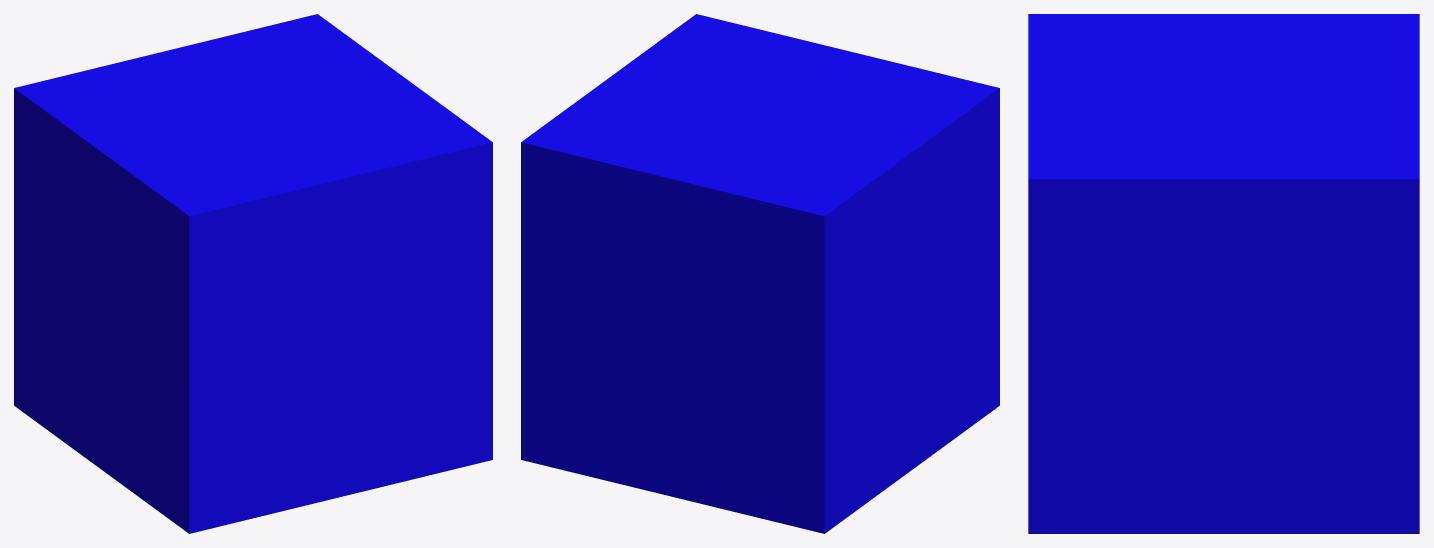
File: beam.FBX
The picture shows the model from 3 angles, left to right: view 1: azimuth 30°, elevation 25°; view 2: azimuth 150°, elevation 25°; view 3: azimuth 270°, elevation 25°; orthographic projection. The views are drawn at different scales.
Visible parts, largest first — view 1: outside; view 2: outside; view 3: outside.
Part boxes in pixels (box(x1,y1,x2,y2)): outside: box(14, 14, 492, 533); outside: box(521, 14, 999, 533); outside: box(1028, 14, 1419, 533).
Bounding box in the file's own units: 2.96 × 2.96 × 2.96.
